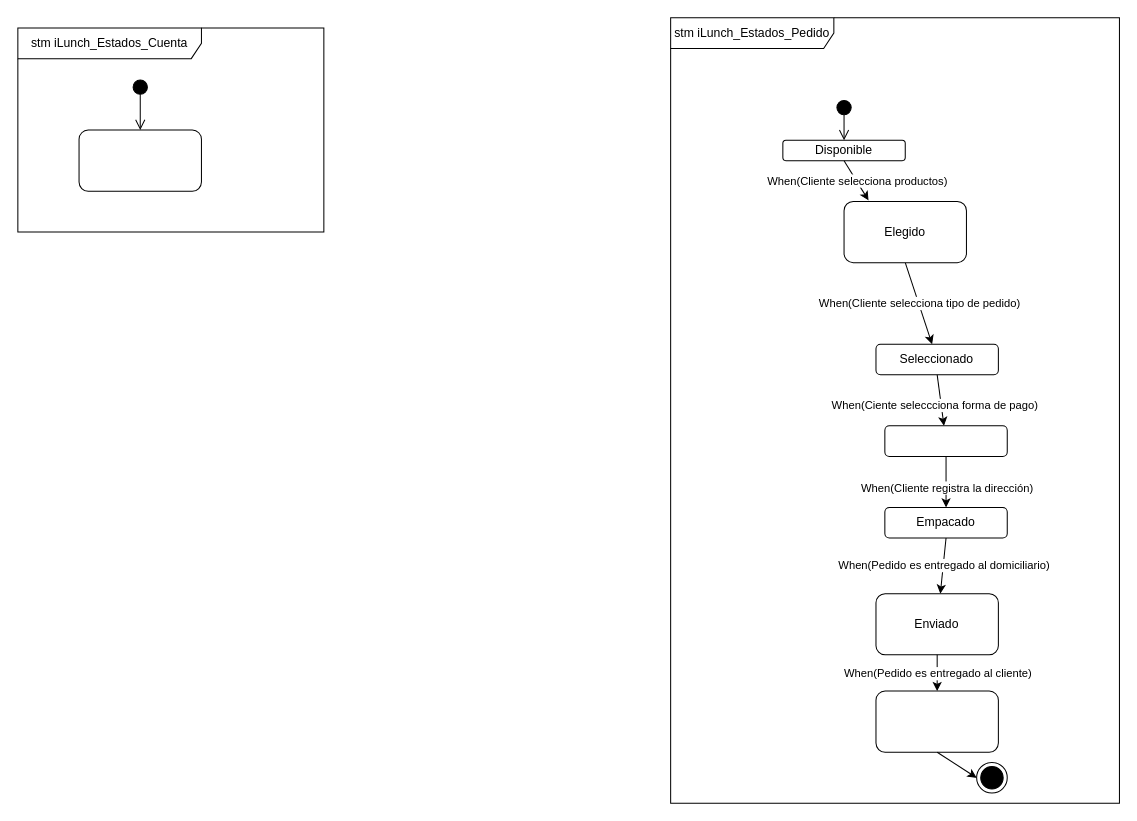
Some shapes in this 1137 by 821 pixel diagram are drawn without their labels. The shapes that lost their labels are listed below. From the top down, each one's centre as x and y in pixels, then its label:
At [139,160]: "No creada".
At [945,441]: "Reservado".
At [936,721]: "Recibido".
